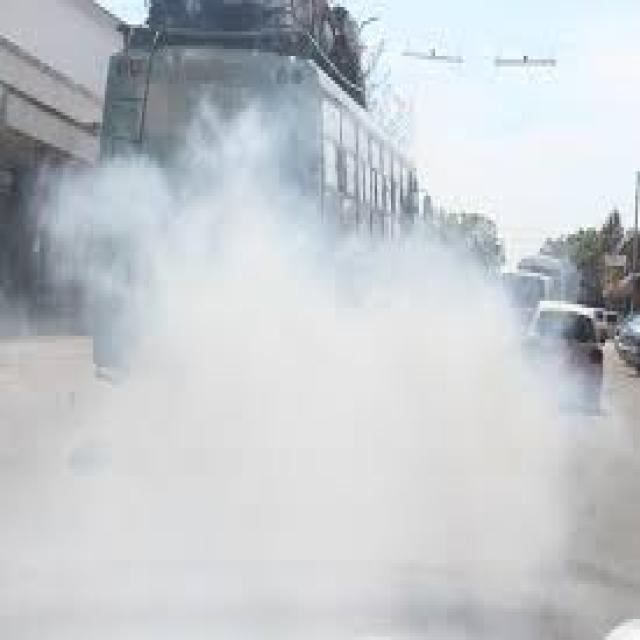smoke: (43, 126, 632, 635)
